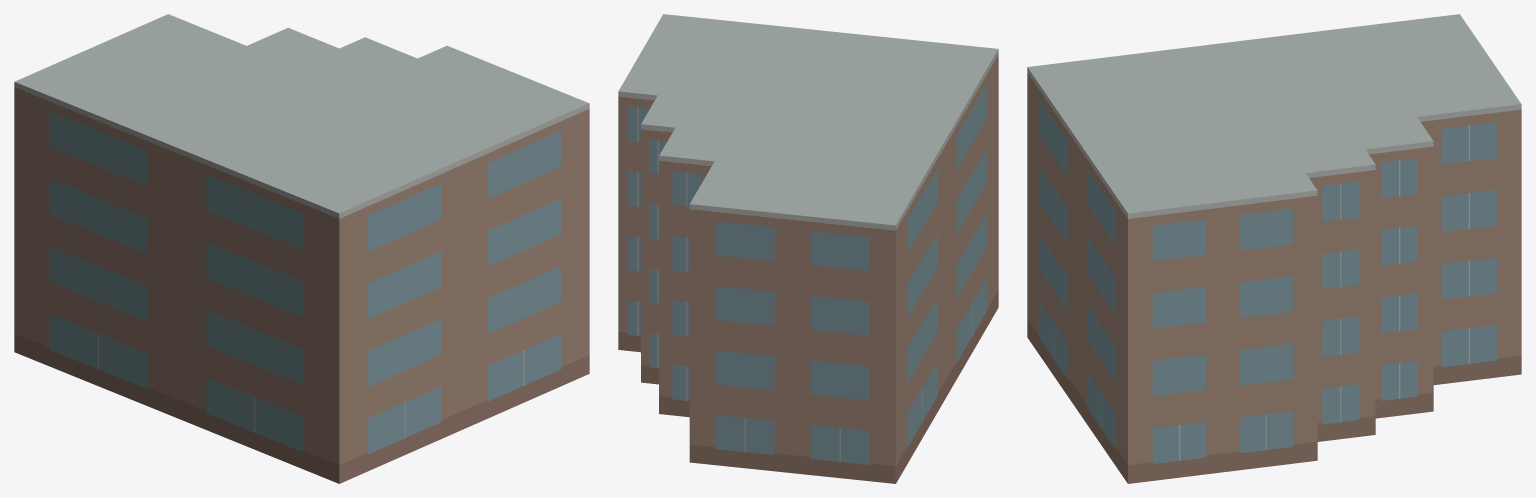
File: residential-6e403a98-65aa-496a-ab61-73109a5f8d65.glb
The picture shows the model from 3 angles, left to right: view 1: azimuth 30°, elevation 25°; view 2: azimuth 150°, elevation 25°; view 3: azimuth 270°, elevation 25°; orthographic projection. The views are drawn at different scales.
Parts seen in each view (by area): view 1: residential-6e403a98-65aa-496a-ab61-73109a5f8d65.tmp; view 2: residential-6e403a98-65aa-496a-ab61-73109a5f8d65.tmp; view 3: residential-6e403a98-65aa-496a-ab61-73109a5f8d65.tmp.
Boxes of the visible parts, x1,y1,x2,y2 form: residential-6e403a98-65aa-496a-ab61-73109a5f8d65.tmp: (14,14,589,483); residential-6e403a98-65aa-496a-ab61-73109a5f8d65.tmp: (618,14,998,483); residential-6e403a98-65aa-496a-ab61-73109a5f8d65.tmp: (1027,14,1521,483).
Size of the model in its own units: 19.33 by 12.2 by 20.23.
